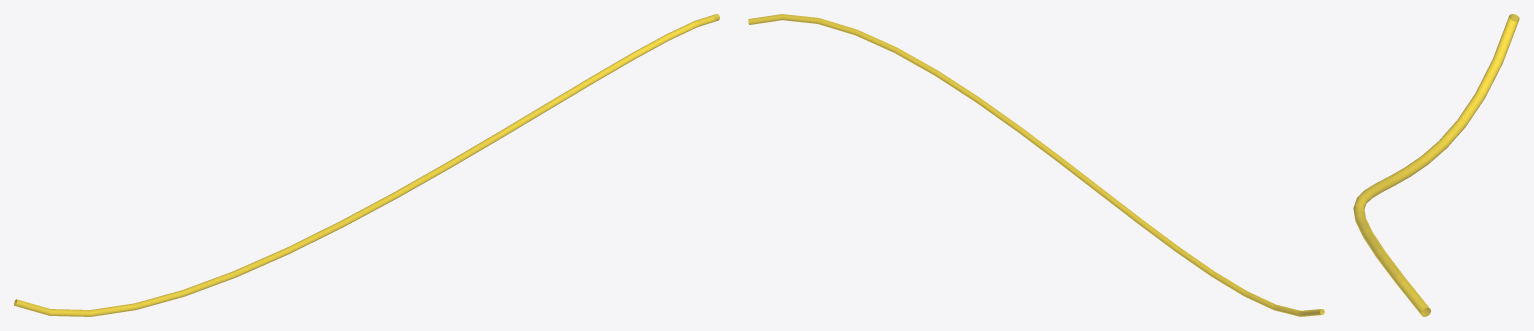
The model's file is Event_100608114_track_84.fbx.
3 views of the same model, side by side, from view 1: azimuth 30°, elevation 25°; view 2: azimuth 150°, elevation 25°; view 3: azimuth 270°, elevation 25° (orthographic). The views are drawn at different scales.
Parts seen in each view (by area): view 1: Model; view 2: Model; view 3: Model.
Part boxes in pixels (<box>): Model: <box>14,14,719,316</box>; Model: <box>748,14,1324,316</box>; Model: <box>1353,14,1519,316</box>.
Bounding box in the file's own units: 4.48 × 1.09 × 0.6059.
